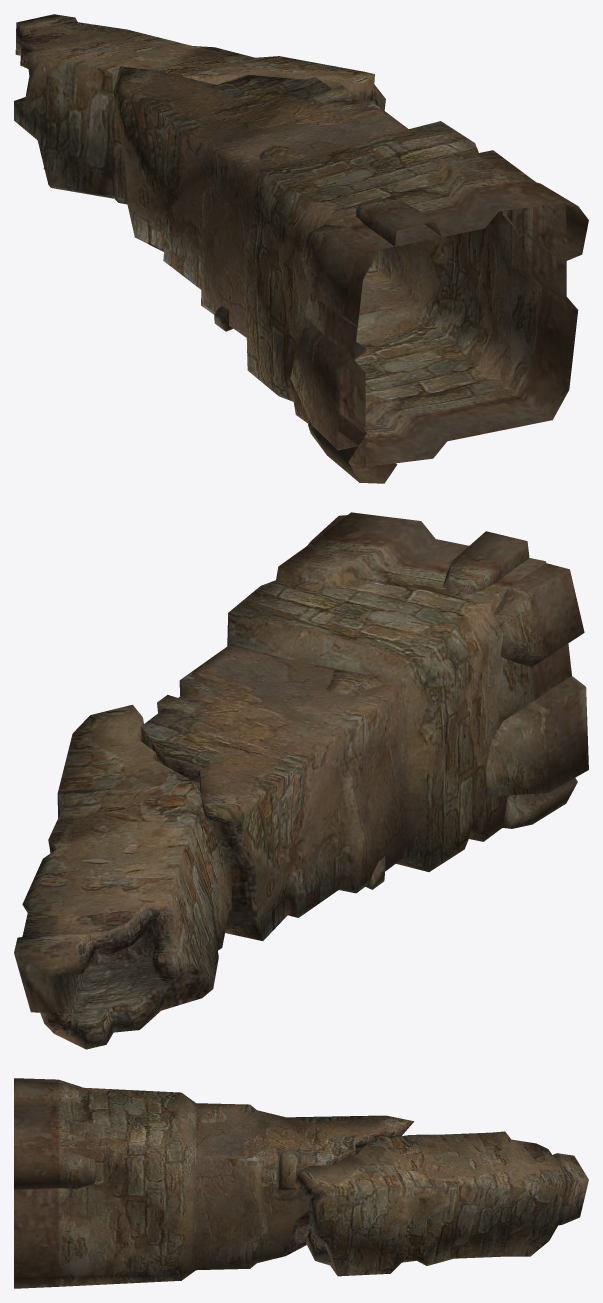
The model's file is tuqiang.FBX.
3 renders of one model, top to bottom at view 1: azimuth 30°, elevation 25°; view 2: azimuth 150°, elevation 25°; view 3: azimuth 270°, elevation 25°, orthographic. The views are drawn at different scales.
Parts seen in each view (by area): view 1: Mesh_0529; view 2: Mesh_0529; view 3: Mesh_0529.
Boxes of the visible parts, left/top/right/bottom form: Mesh_0529: left=14, top=14, right=588, bottom=483; Mesh_0529: left=14, top=512, right=588, bottom=1049; Mesh_0529: left=14, top=1078, right=588, bottom=1288.
Size of the model in its own units: 3.9 by 3.46 by 10.5.
1 material, 1 textured.
